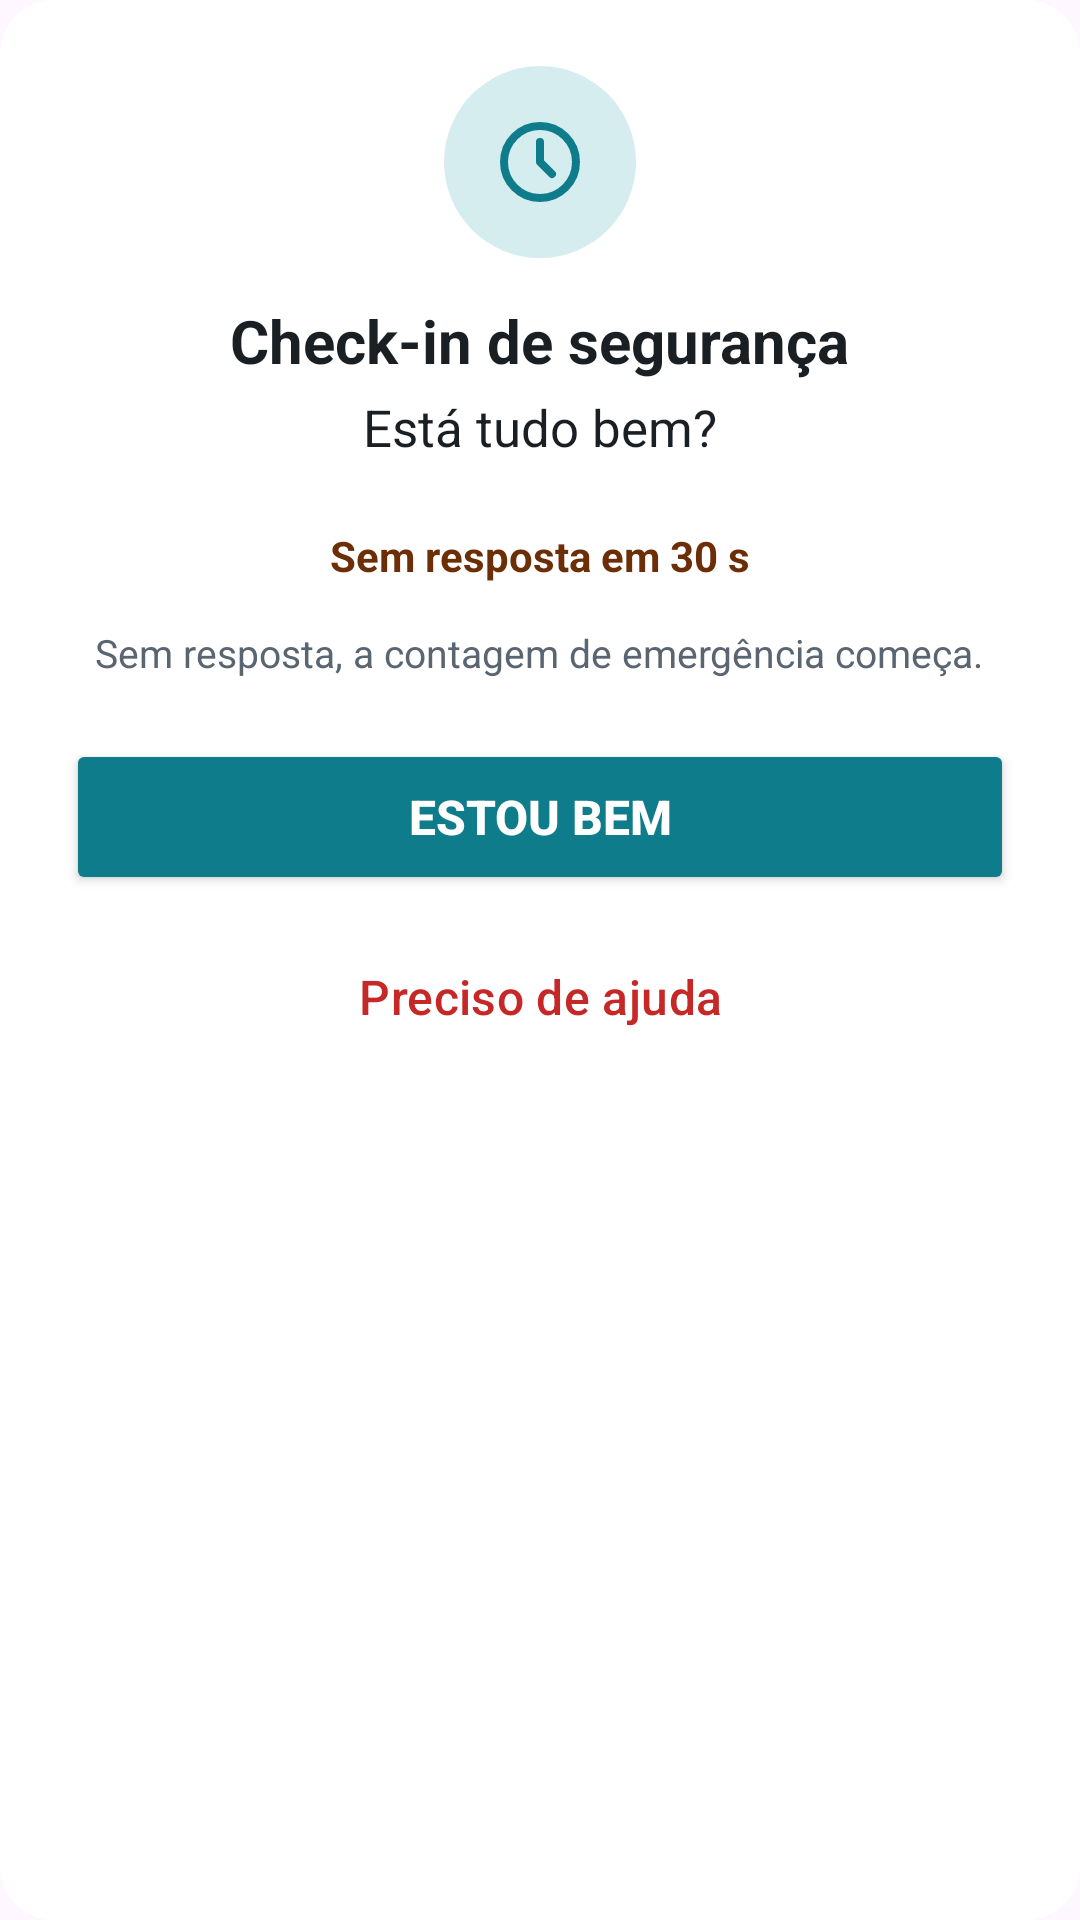

Icons on this 1080px x 1920px Android screen, each with the point to tap as point (x, y):
relogio: point (540, 162)
